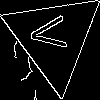V: (29, 13, 76, 53)
